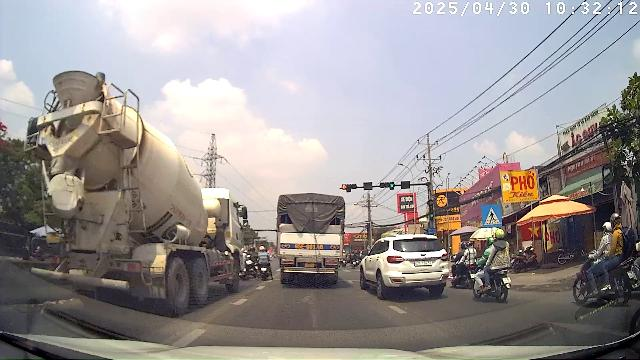423a-duong-nguoi-di-bo-sang-ngang-1: (482, 204, 502, 226)
